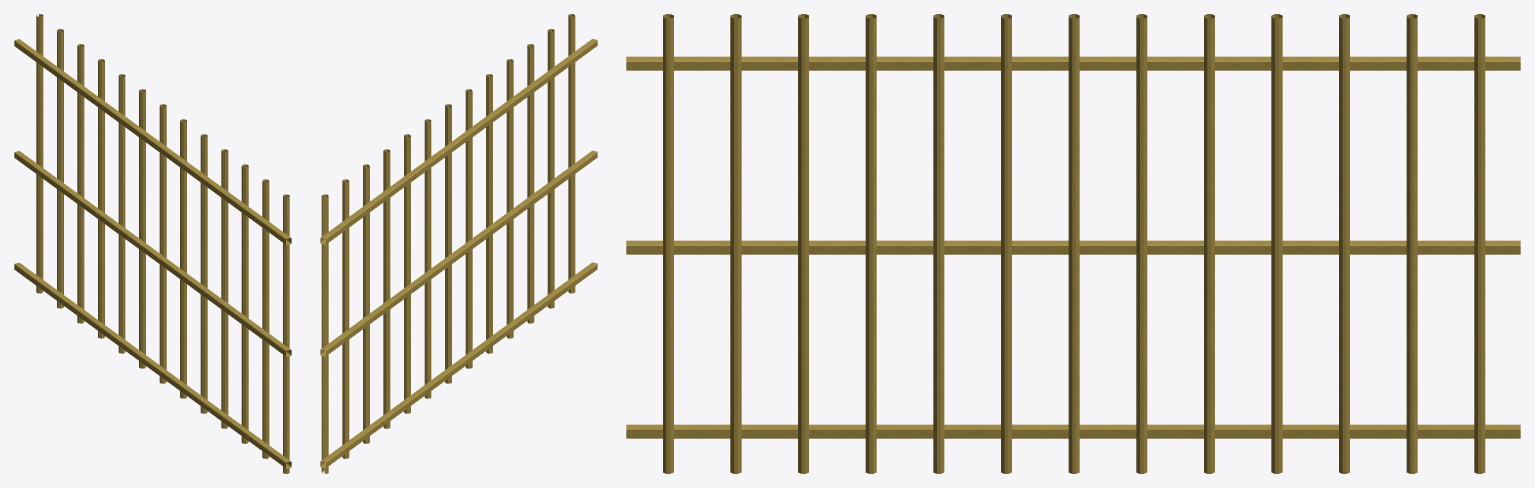
The model's file is Gate.fbx.
The picture shows the model from 3 angles, left to right: view 1: azimuth 30°, elevation 25°; view 2: azimuth 150°, elevation 25°; view 3: azimuth 270°, elevation 25°; orthographic projection. The views are drawn at different scales.
Parts seen in each view (by area): view 1: Gate; view 2: Gate; view 3: Gate.
Part boxes in pixels (bbox=[...]): Gate: bbox=[14, 14, 291, 473]; Gate: bbox=[320, 14, 597, 473]; Gate: bbox=[626, 14, 1520, 473].
Bounding box in the file's own units: 10.51 × 173 × 308.
